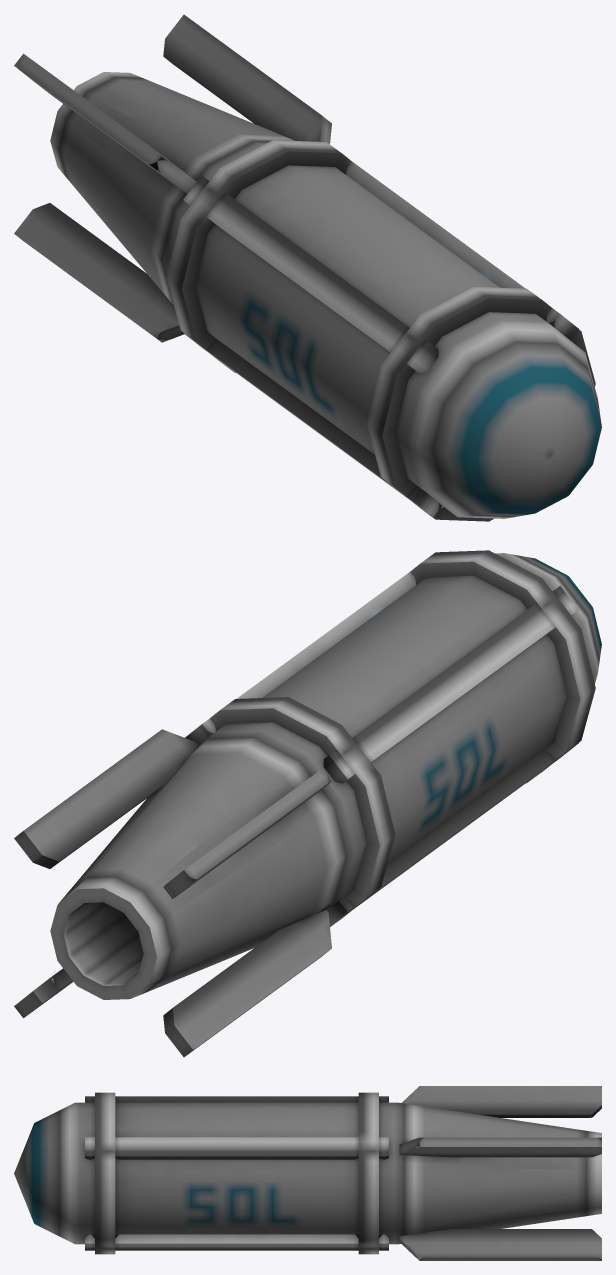
Rendered from nuke_solinium.obj.
The picture shows the model from 3 angles, top to bottom: view 1: azimuth 30°, elevation 25°; view 2: azimuth 150°, elevation 25°; view 3: azimuth 270°, elevation 25°; orthographic projection. The views are drawn at different scales.
Visible parts, largest first — view 1: Cylinder.001; view 2: Cylinder.001; view 3: Cylinder.001.
Part boxes in pixels (<box>): Cylinder.001: <box>14,14,601,521</box>; Cylinder.001: <box>14,550,601,1057</box>; Cylinder.001: <box>14,1086,601,1260</box>.
Size of the model in its own units: 1 by 1 by 3.62.
